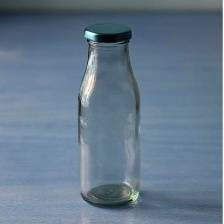bottle: (74, 18, 147, 209)
